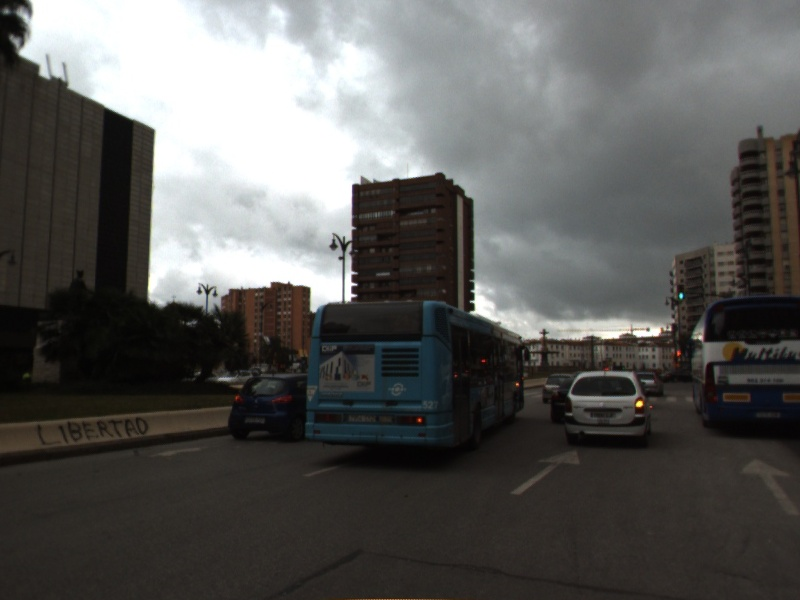STRAIGHT: (737, 456, 800, 517), (508, 447, 582, 497)
